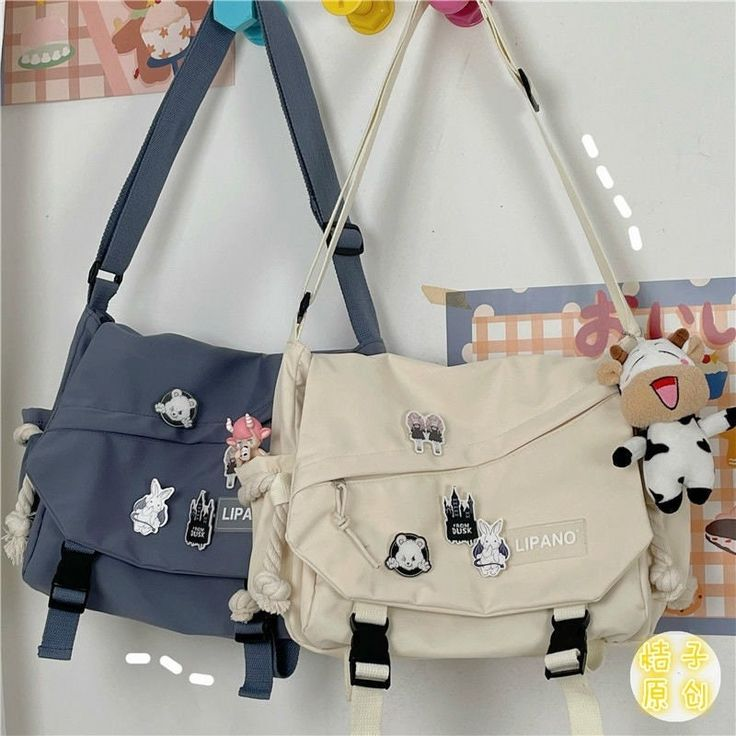nylon: (13, 9, 668, 736)
